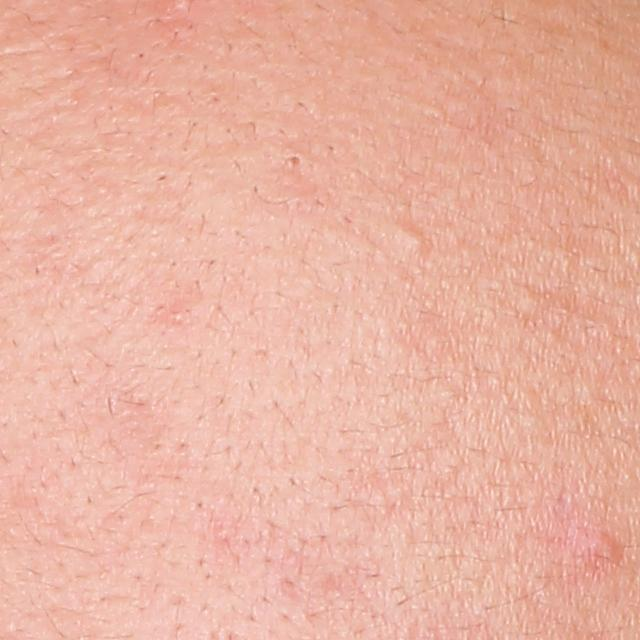comedo: (386, 215, 432, 270), (281, 151, 308, 174)
papule: (566, 521, 625, 577)
